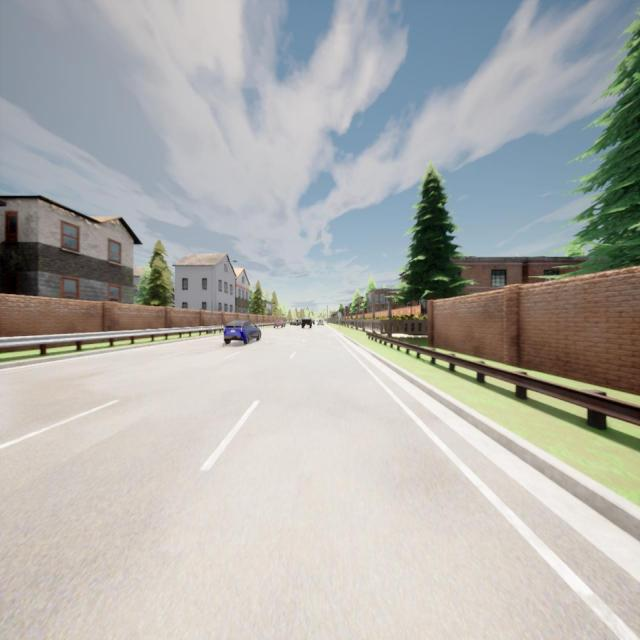Traffic_Signs: (338, 313, 341, 317)
Vehicle: (223, 320, 262, 345), (274, 316, 286, 328), (302, 318, 312, 330), (289, 318, 300, 327), (317, 318, 324, 327)
